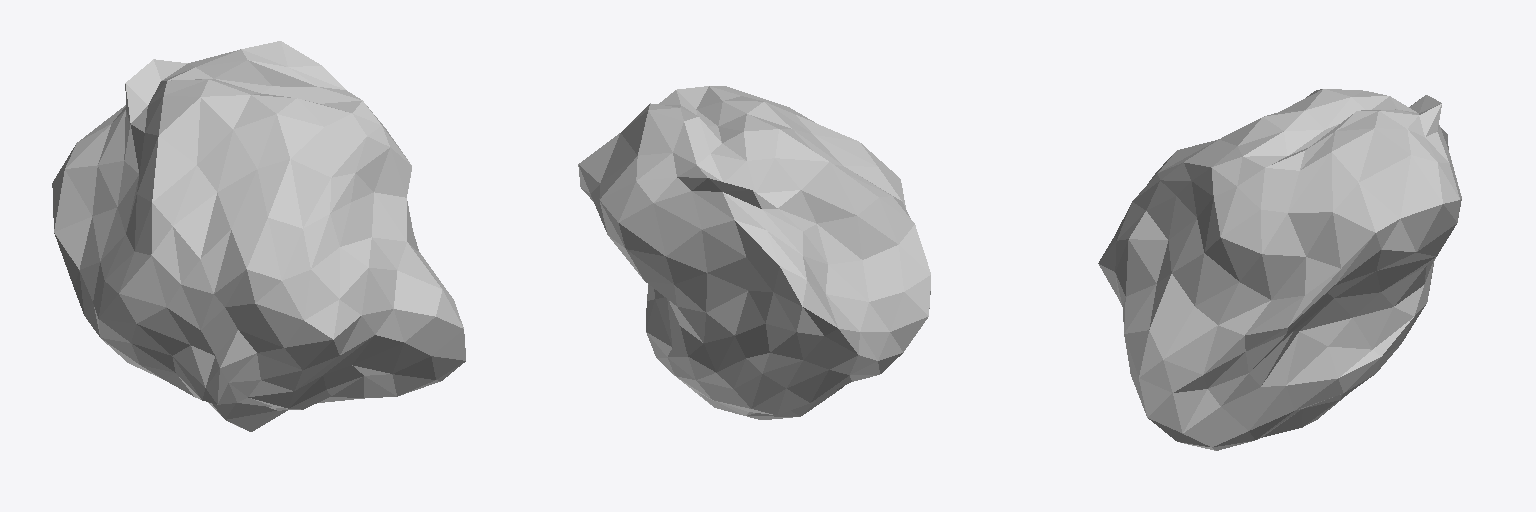
File: asteroid28.obj
The picture shows the model from 3 angles: view 1: azimuth 30°, elevation 25°; view 2: azimuth 150°, elevation 25°; view 3: azimuth 270°, elevation 25°; orthographic projection.
Visible parts, largest first — view 1: asteroid; view 2: asteroid; view 3: asteroid.
Boxes of the visible parts, x1,y1,x2,y2 form: asteroid: [52, 41, 465, 431]; asteroid: [578, 86, 930, 419]; asteroid: [1098, 89, 1461, 450].
Size of the model in its own units: 49.09 by 47.98 by 48.57.